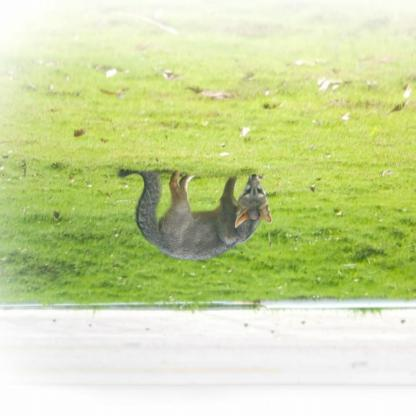zorro: (110, 165, 278, 263)
